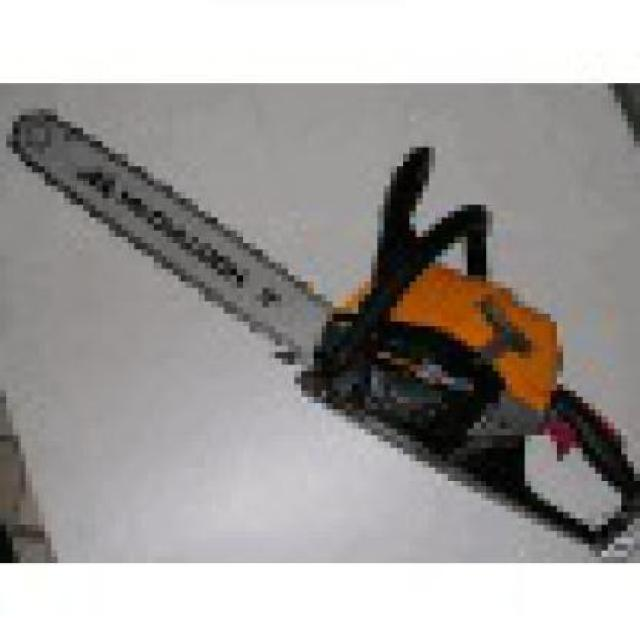Chainsaw: (4, 106, 640, 560)
